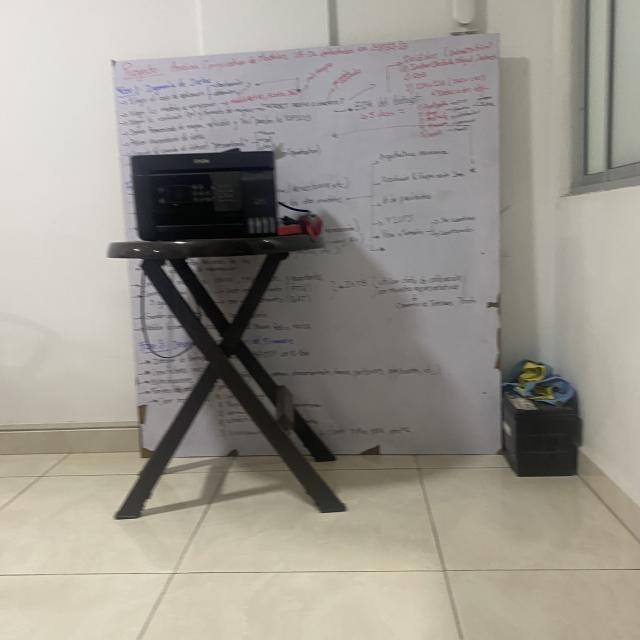obstacle: (85, 140, 358, 534), (487, 354, 598, 488)
